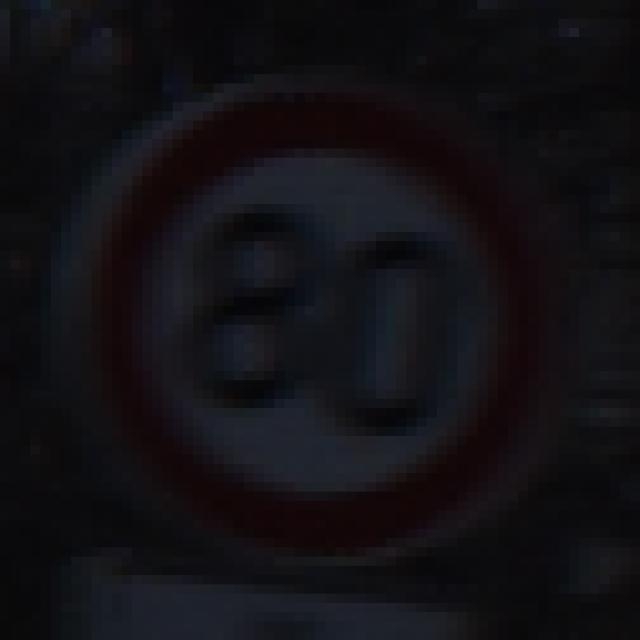Ograniczenie predkosci do 80: (66, 88, 537, 545)
